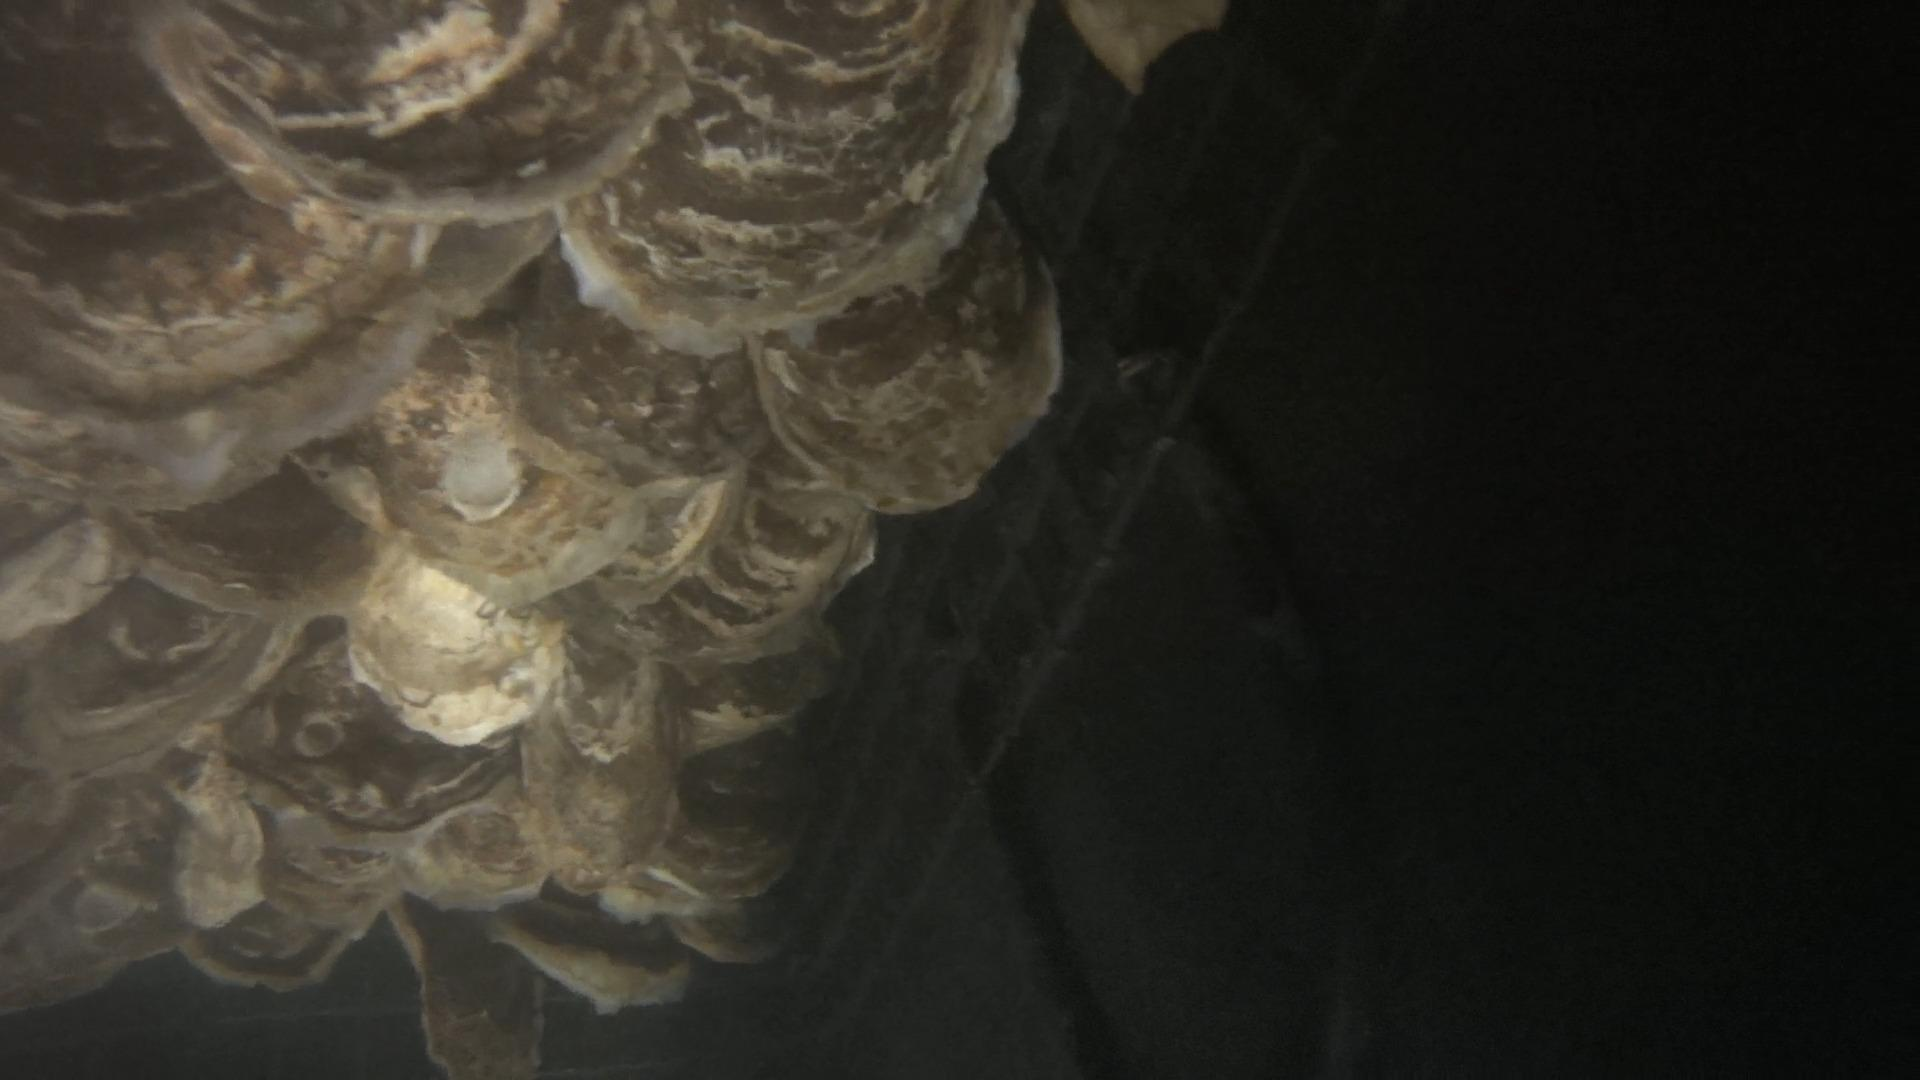3: (295, 326, 645, 607), (119, 462, 373, 620), (603, 729, 808, 919)
Oyster- Indeterminate: (0, 3, 553, 509), (560, 0, 1029, 352), (138, 0, 682, 220), (748, 203, 1060, 512), (517, 253, 769, 485), (224, 634, 516, 831), (626, 444, 876, 662), (18, 576, 287, 770), (347, 541, 562, 745), (521, 633, 676, 894), (179, 807, 397, 990), (385, 898, 543, 1080), (487, 885, 690, 1014), (676, 618, 837, 753), (593, 471, 735, 608), (167, 752, 262, 928), (0, 516, 131, 641), (400, 803, 547, 910), (666, 898, 785, 964)
